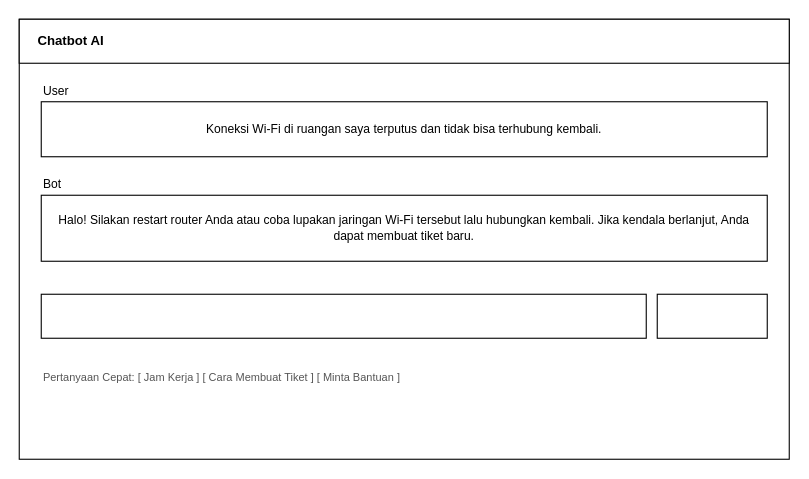
This 809x479 diagram has some shape labels left out. Here are the shapes that lost their labels. From the top down, the centre of each, then its label:
At pixel 343 315: "Ketik pesan Anda...".
At pixel 711 315: "Kirim".
